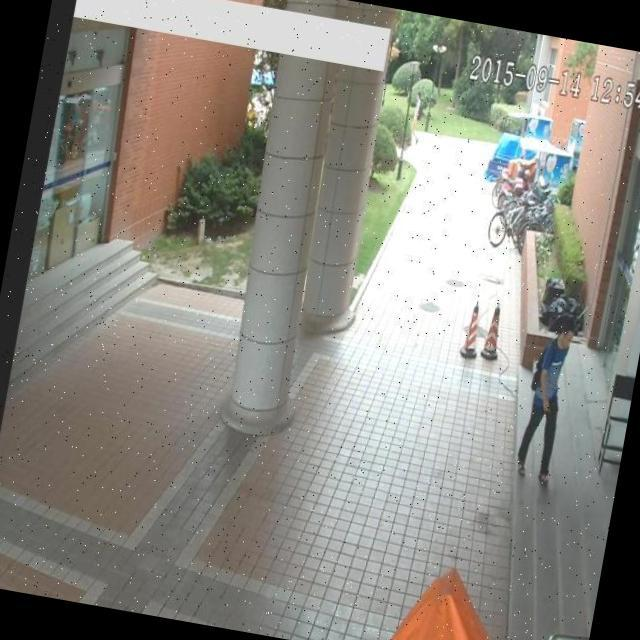person: (509, 314, 584, 498)
